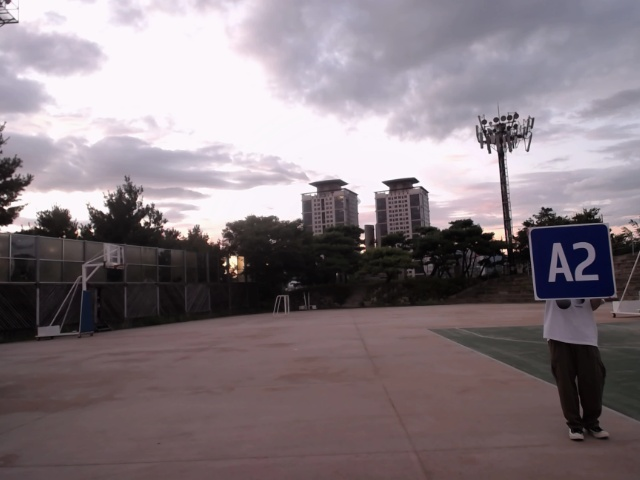delivery_a2: (529, 224, 615, 301)
